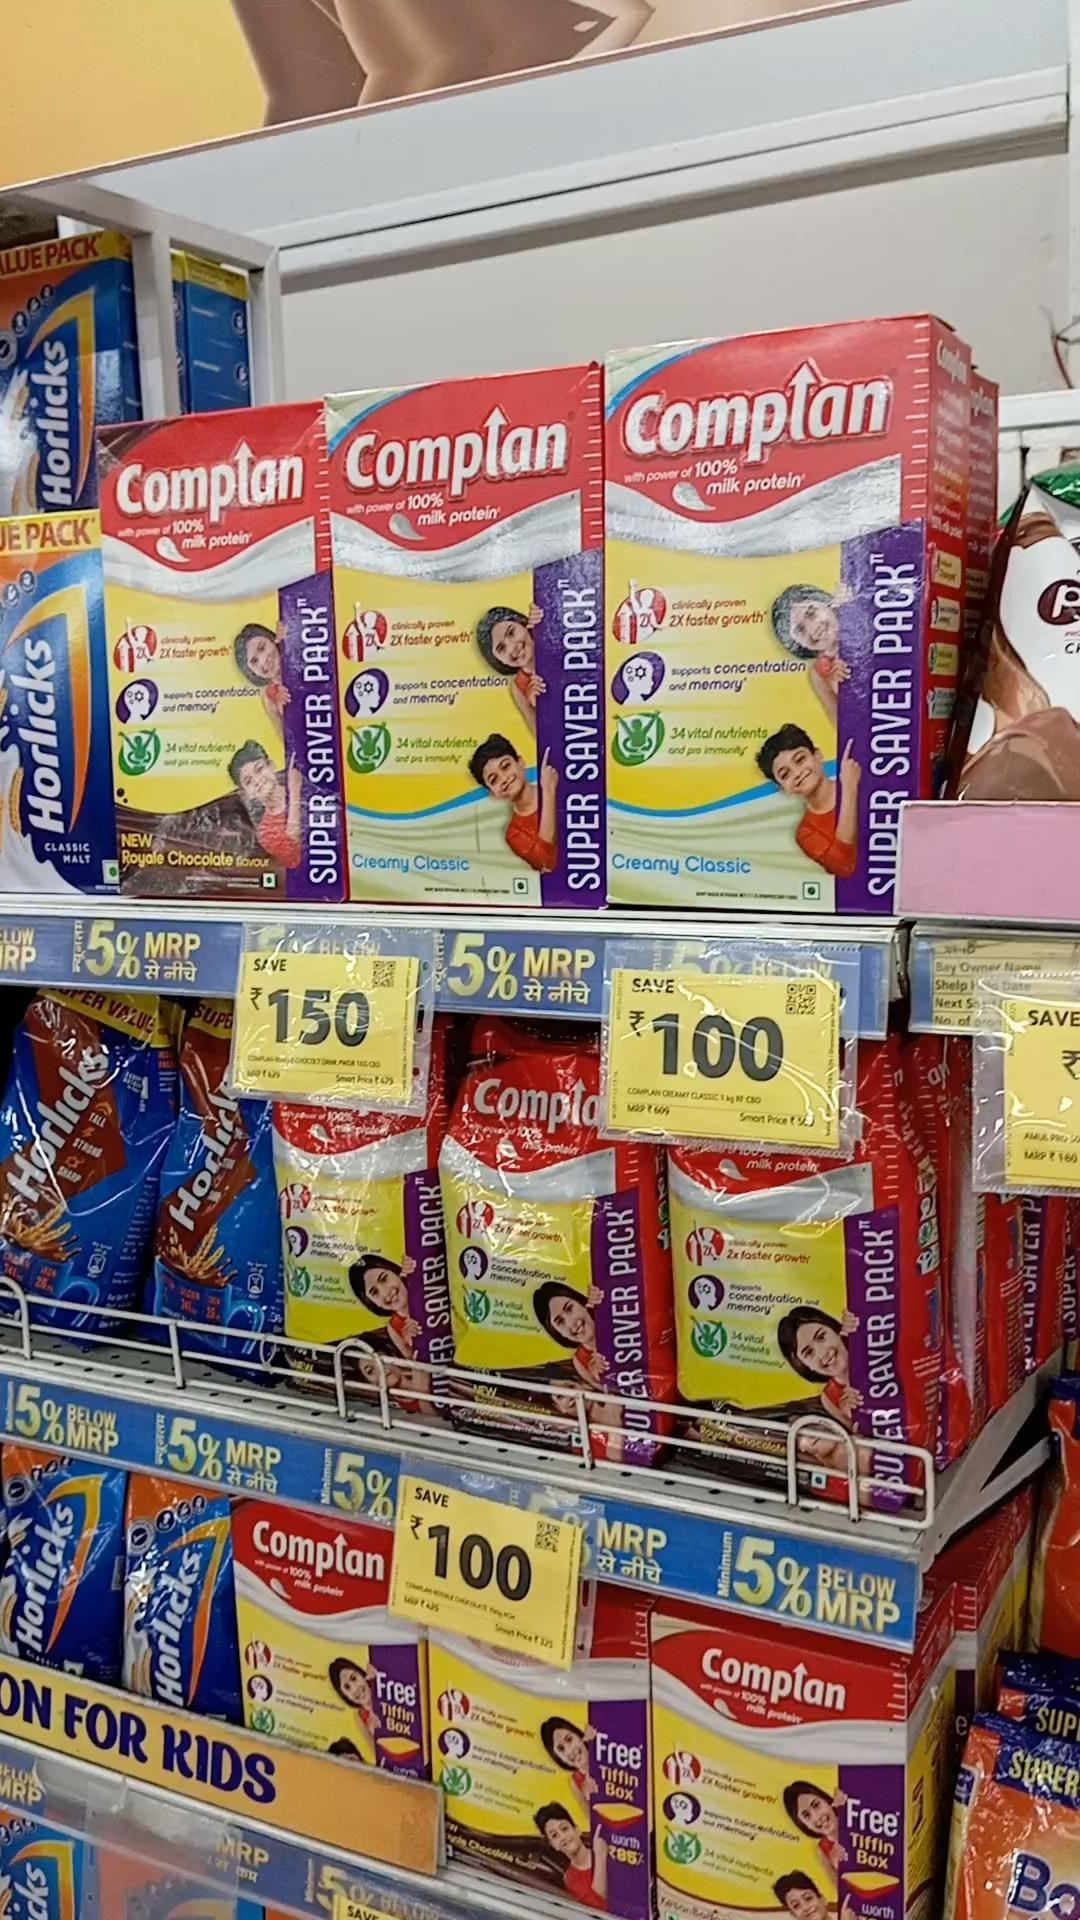COMPLAN_CHOCOLATE_1_KG_PACK: (113, 407, 343, 895)
COMPLAN_CHOCOLATE_500_GMS_PACK: (659, 1618, 905, 1920), (435, 1609, 653, 1904)
COMPLAN_RC_POUCH_700_GMS_12: (673, 1141, 932, 1511), (451, 1026, 663, 1461), (293, 1104, 444, 1408)
HORLICK_CHOCOLATE_750_G_POUCH: (0, 989, 149, 1342), (157, 1000, 286, 1379)
HORLICK_CLASSIC_MALT_750_G_POUCH: (121, 1473, 243, 1716), (1, 1452, 117, 1684)
